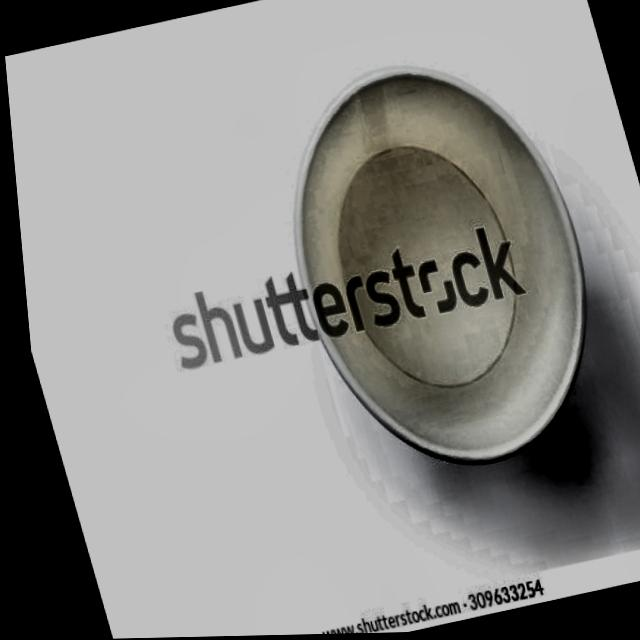Cup: (225, 32, 640, 505)
